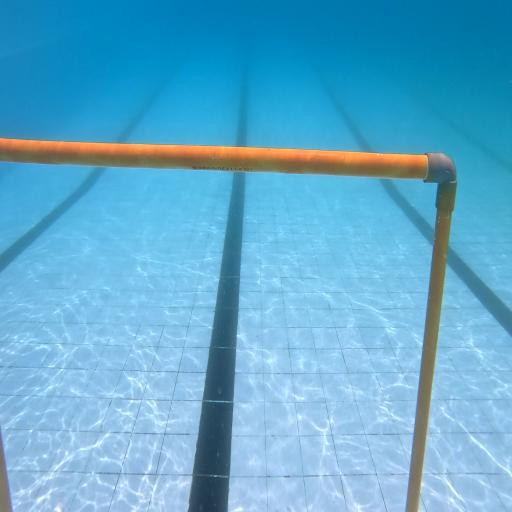gate: (0, 136, 457, 512)
